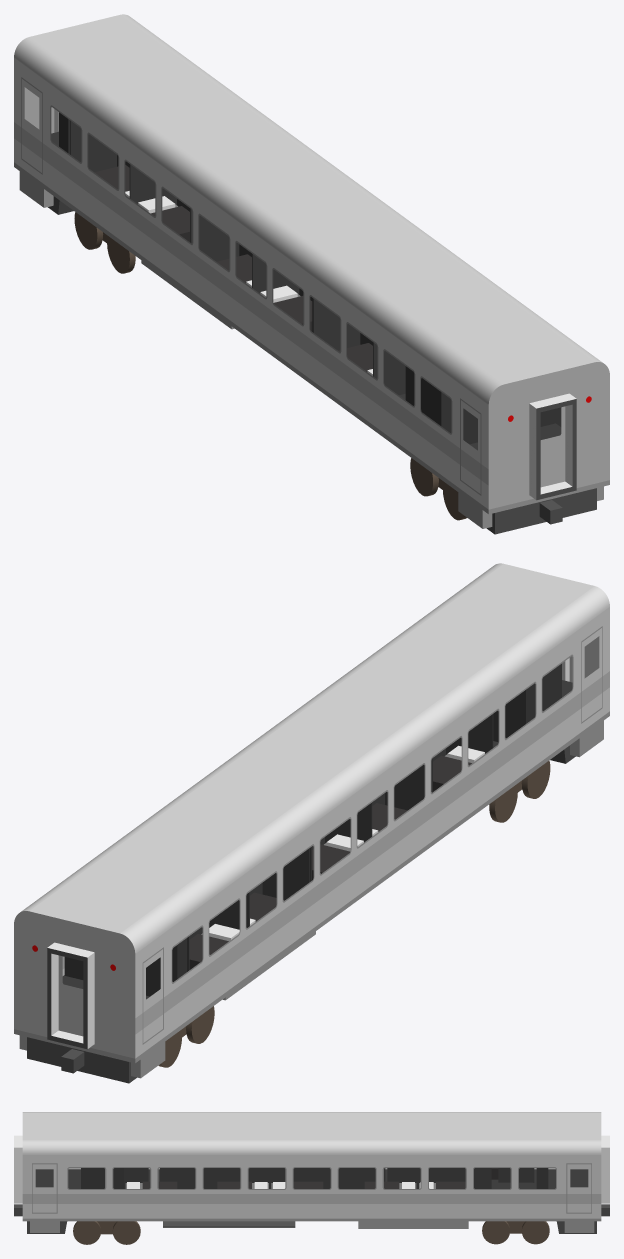
The model's file is sleeper-car.glb.
The picture shows the model from 3 angles, top to bottom: view 1: azimuth 30°, elevation 25°; view 2: azimuth 150°, elevation 25°; view 3: azimuth 270°, elevation 25°; orthographic projection. The views are drawn at different scales.
Visible parts, largest first — view 1: group_0, Box (×7), Box_5, group_3_1; view 2: group_0, Box (×5), Box_5, Box_2, group_3_1, group_5_1; view 3: group_0, Box (×17), Box_4, group_2_1, group_4_1, group_2, group_4, Box_3.
Part boxes in pixels (<box>): group_0: <box>14,14,609,534</box>; Box (×7): <box>70,120,405,395</box>; Box_5: <box>405,366,477,444</box>; group_3_1: <box>410,458,438,496</box>; group_0: <box>14,563,609,1083</box>; Box (×5): <box>262,714,493,899</box>; Box_5: <box>493,663,561,742</box>; Box_2: <box>146,938,186,996</box>; group_3_1: <box>489,784,517,822</box>; group_5_1: <box>521,760,550,798</box>; group_0: <box>14,1112,609,1233</box>; Box (×17): <box>35,1168,588,1188</box>; Box_4: <box>81,1168,123,1188</box>; group_2_1: <box>112,1221,140,1244</box>; group_4_1: <box>73,1221,100,1244</box>; group_2: <box>521,1221,549,1244</box>; group_4: <box>482,1221,509,1244</box>; Box_3: <box>536,1168,548,1188</box>.
Bounding box in the file's own units: 3.02 × 4.13 × 21.08.
